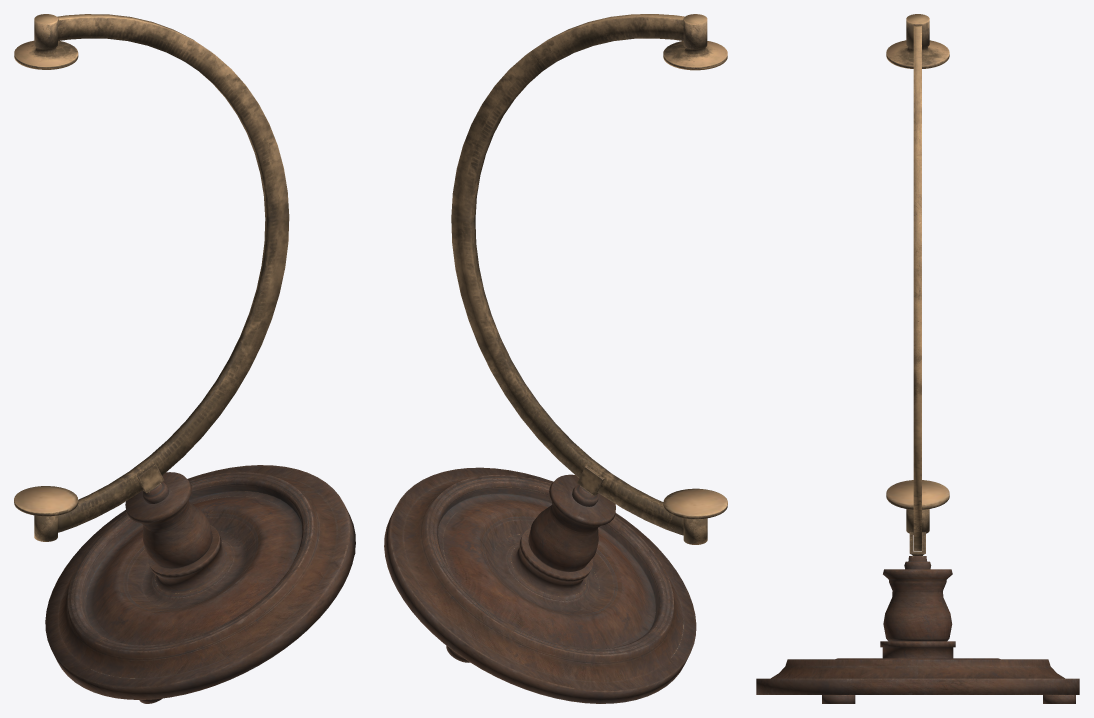
The model's file is stand.gltf.
3 renders of one model, left to right at view 1: azimuth 30°, elevation 25°; view 2: azimuth 150°, elevation 25°; view 3: azimuth 270°, elevation 25°, orthographic.
Visible parts, largest first — view 1: Globe Base_low.001; view 2: Globe Base_low.001; view 3: Globe Base_low.001.
Boxes of the visible parts, x1=… form: Globe Base_low.001: x1=14, y1=14, x2=355, y2=703; Globe Base_low.001: x1=384, y1=14, x2=727, y2=703; Globe Base_low.001: x1=756, y1=14, x2=1079, y2=703.
Size of the model in its own units: 1.5 by 3.06 by 1.35.
1 material, 1 textured.
